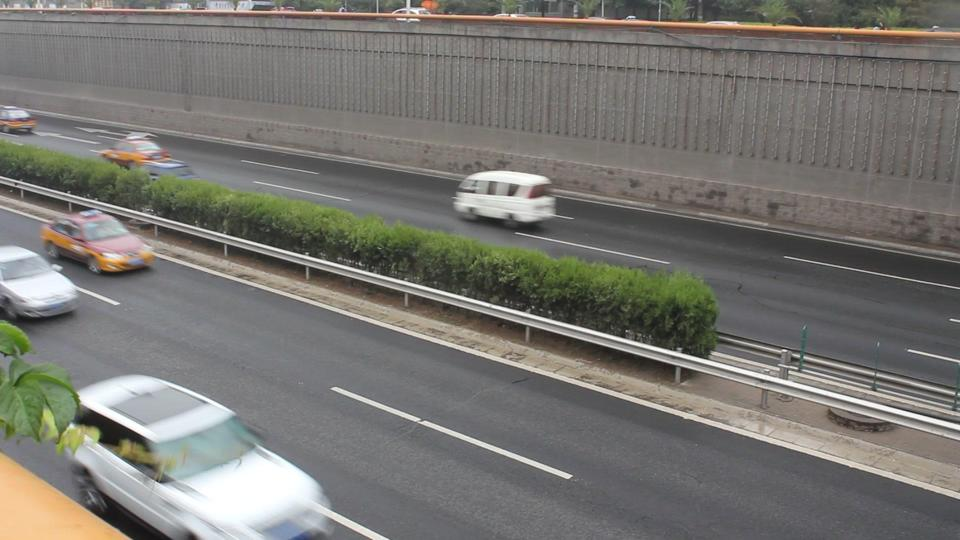car: (57, 374, 339, 540), (39, 208, 157, 275), (0, 244, 81, 320), (97, 136, 189, 177), (0, 105, 39, 133)
truck: (452, 170, 555, 230)
